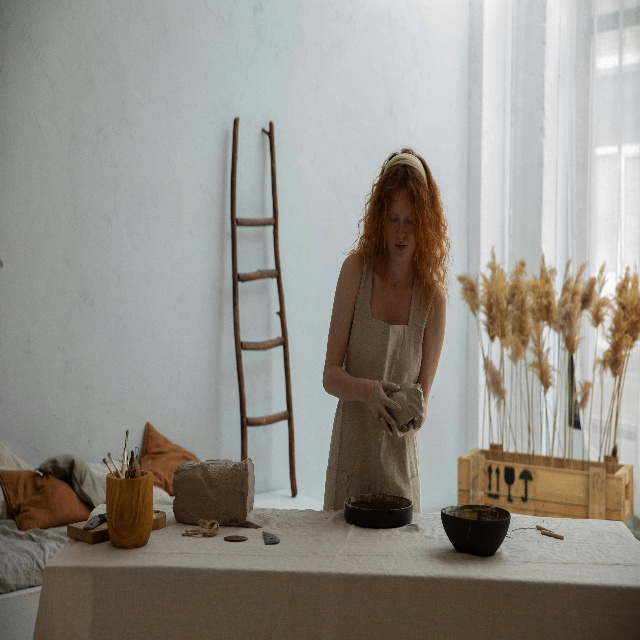Sin_guantes: (366, 379, 403, 433), (380, 416, 412, 438)
